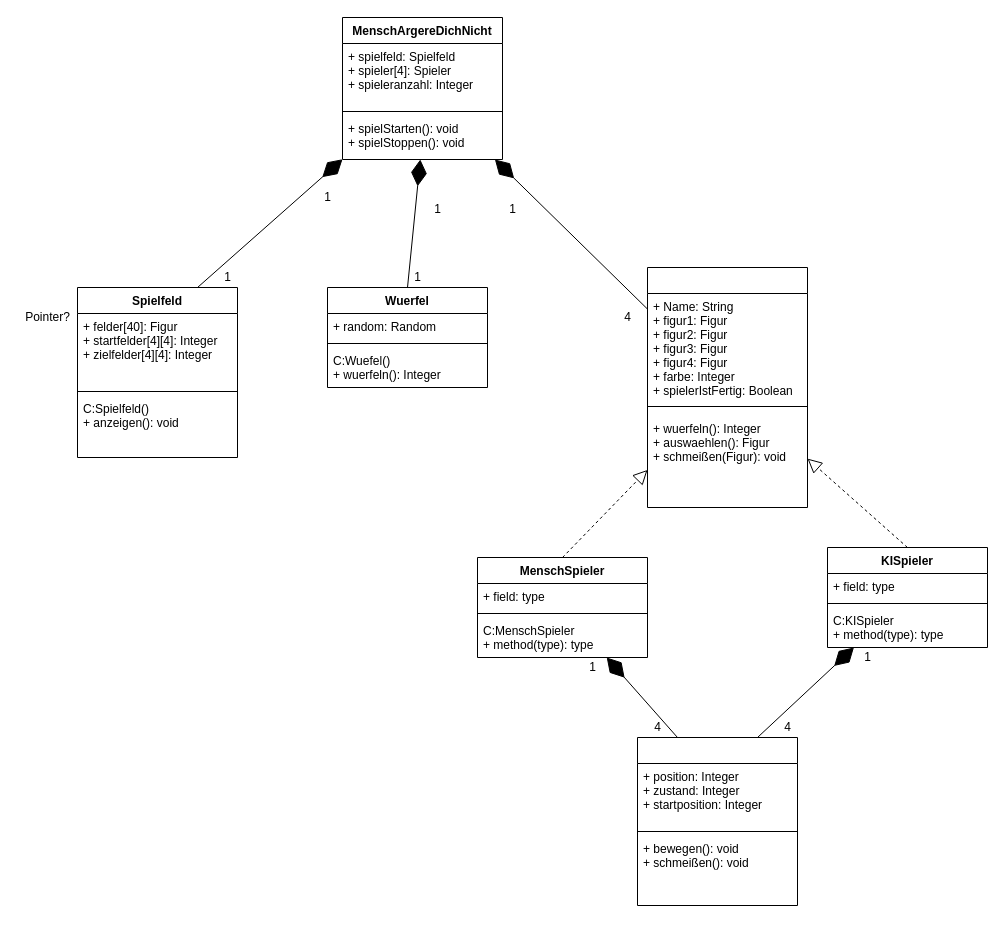
This 1005x926 diagram has some shape labels left out. Here are the shapes that lost their labels. From the top down, the box of each, then its label:
(646, 266, 808, 508): (abstract) Spieler
(636, 736, 798, 906): Figur
